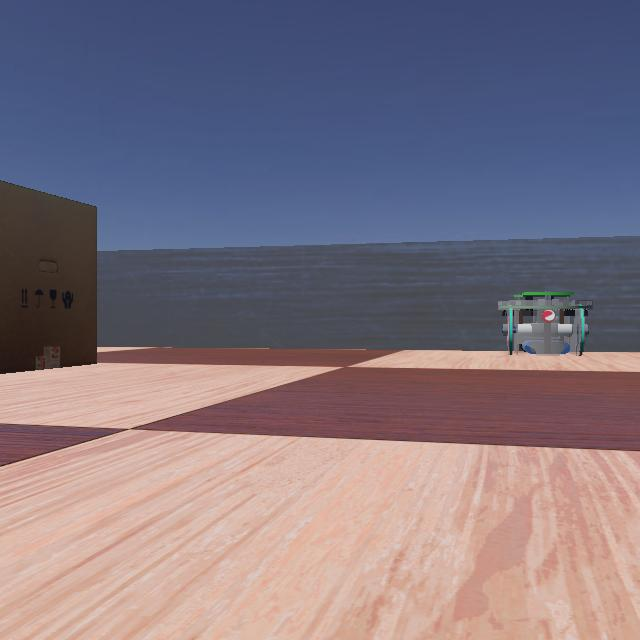cardboard-box: (0, 172, 104, 376)
